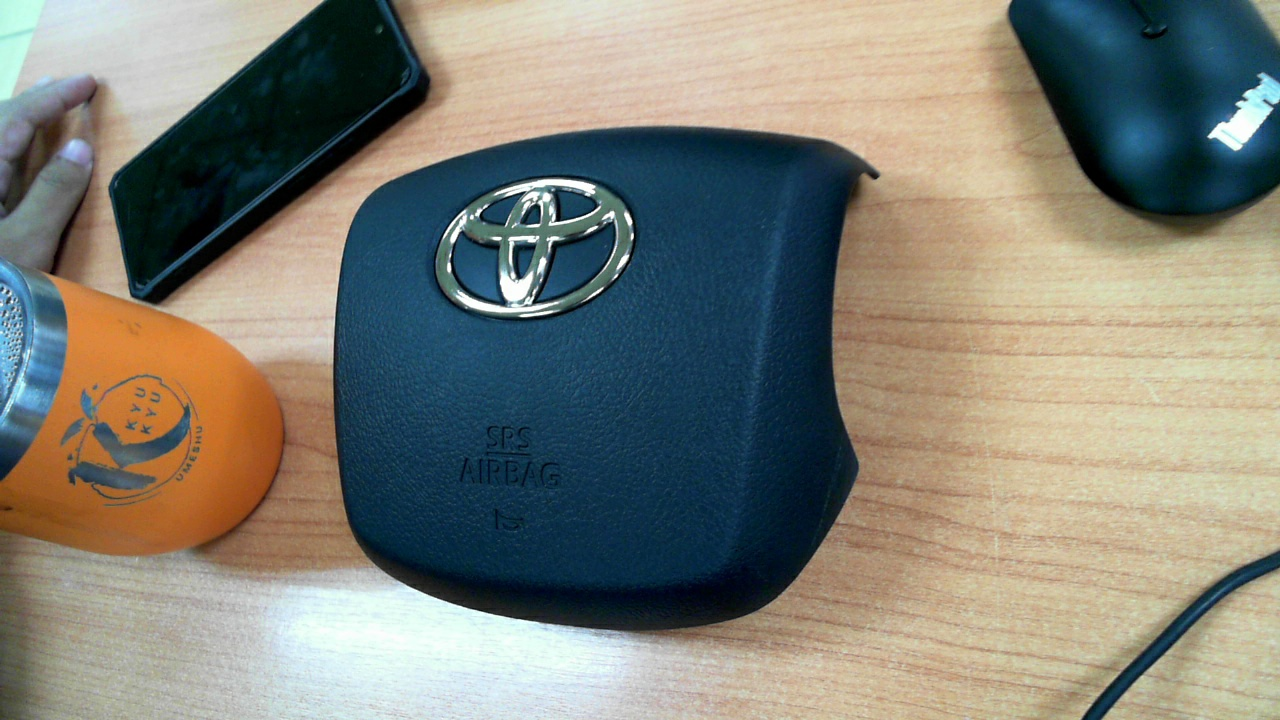Airbag: (290, 93, 902, 626)
